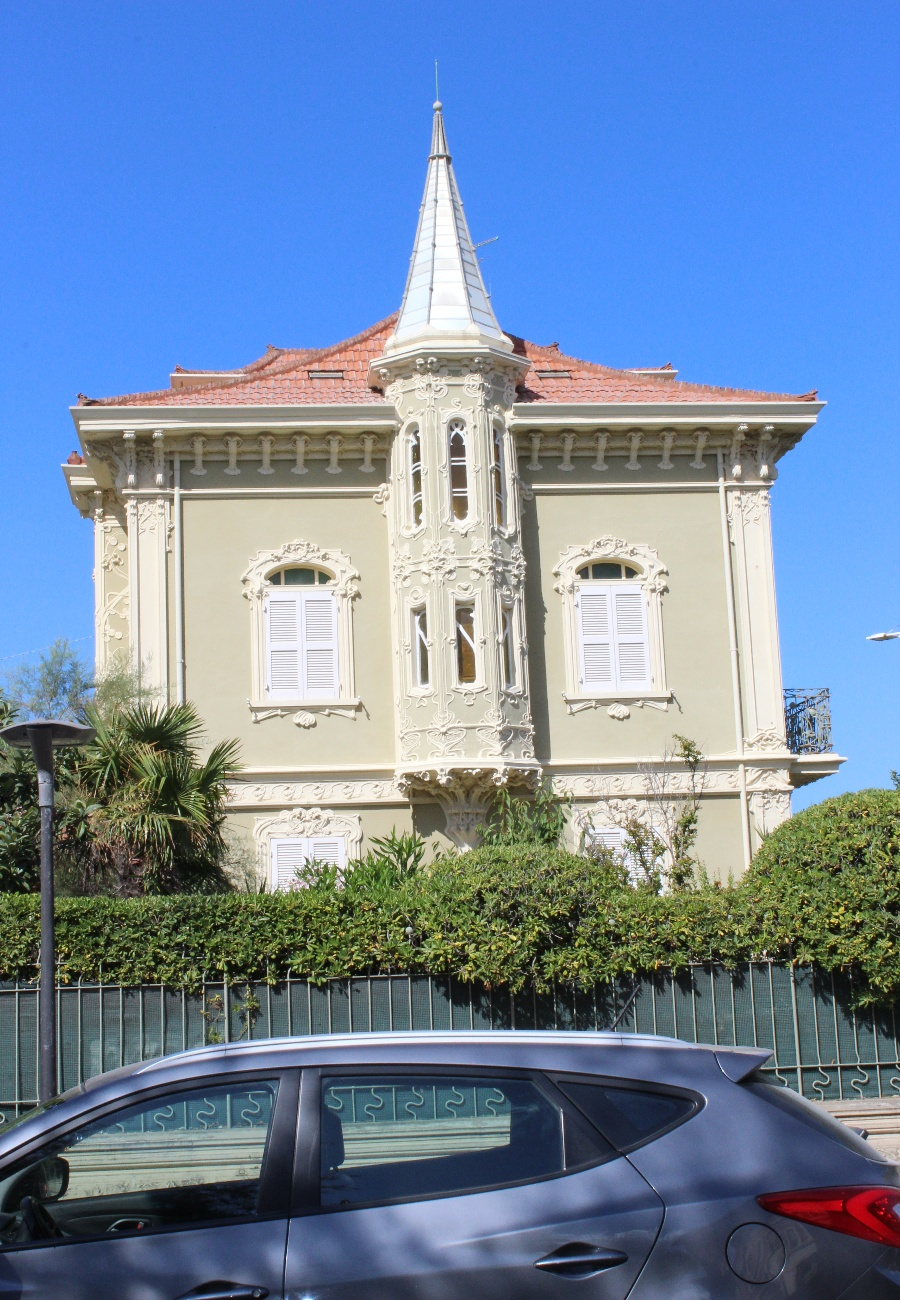Villino Ruggeri: (59, 76, 833, 1028)
